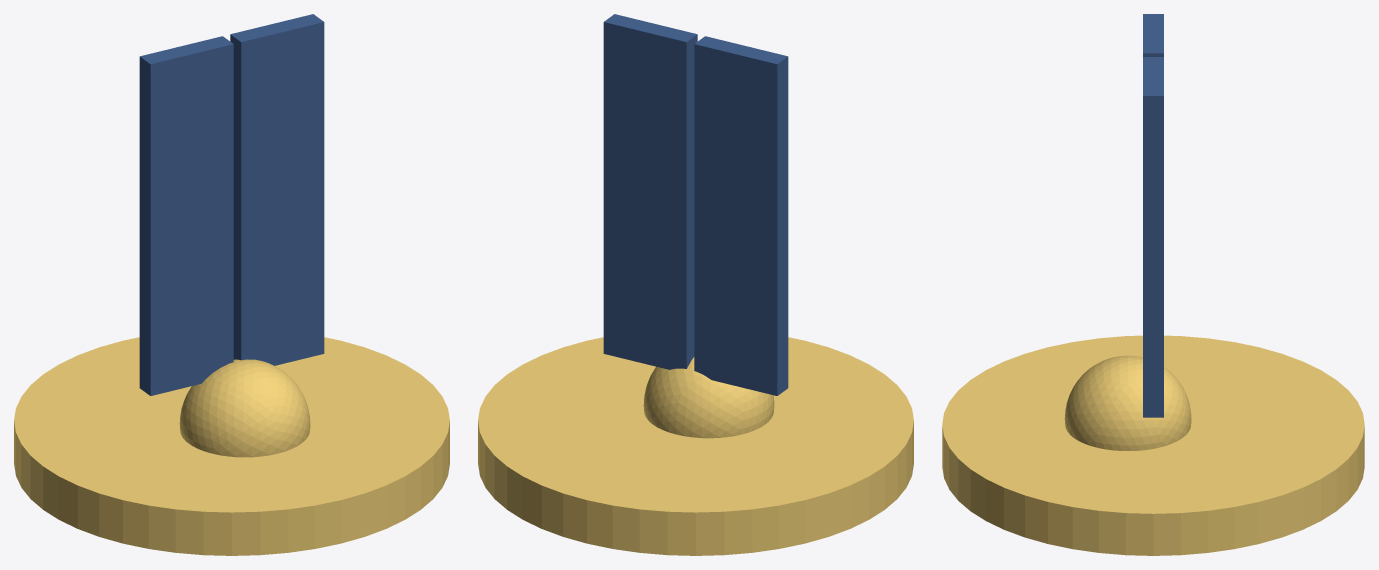
The model's file is championship_medal.glb.
3 renders of one model, left to right at view 1: azimuth 30°, elevation 25°; view 2: azimuth 150°, elevation 25°; view 3: azimuth 270°, elevation 25°, orthographic. The views are drawn at different scales.
Visible parts, largest first — view 1: Medal_Disc, Ribbon_Left, Ribbon_Right, Medal_Emblem; view 2: Medal_Disc, Ribbon_Left, Ribbon_Right, Medal_Emblem; view 3: Medal_Disc, Medal_Emblem, Ribbon_Right, Ribbon_Left.
Part boxes in pixels (x1,y1,x2,y2): Medal_Disc: [14, 337, 449, 555]; Ribbon_Left: [139, 36, 233, 395]; Ribbon_Right: [230, 14, 324, 365]; Medal_Emblem: [179, 359, 310, 457]; Medal_Disc: [478, 337, 913, 555]; Ribbon_Left: [694, 36, 788, 395]; Ribbon_Right: [603, 14, 697, 369]; Medal_Emblem: [643, 357, 774, 438]; Medal_Disc: [942, 335, 1364, 555]; Medal_Emblem: [1064, 355, 1191, 450]; Ribbon_Right: [1143, 57, 1163, 417]; Ribbon_Left: [1143, 14, 1163, 56].
Size of the model in its own units: 0.5 by 0.55 by 0.5.
